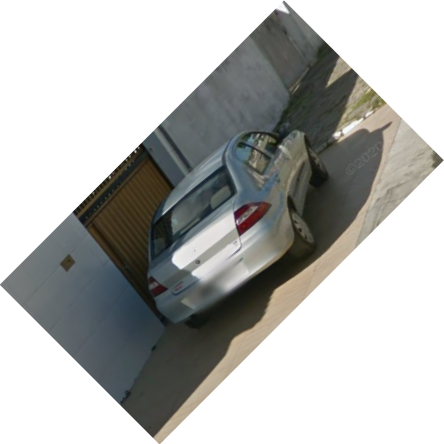car: (143, 121, 329, 326)
